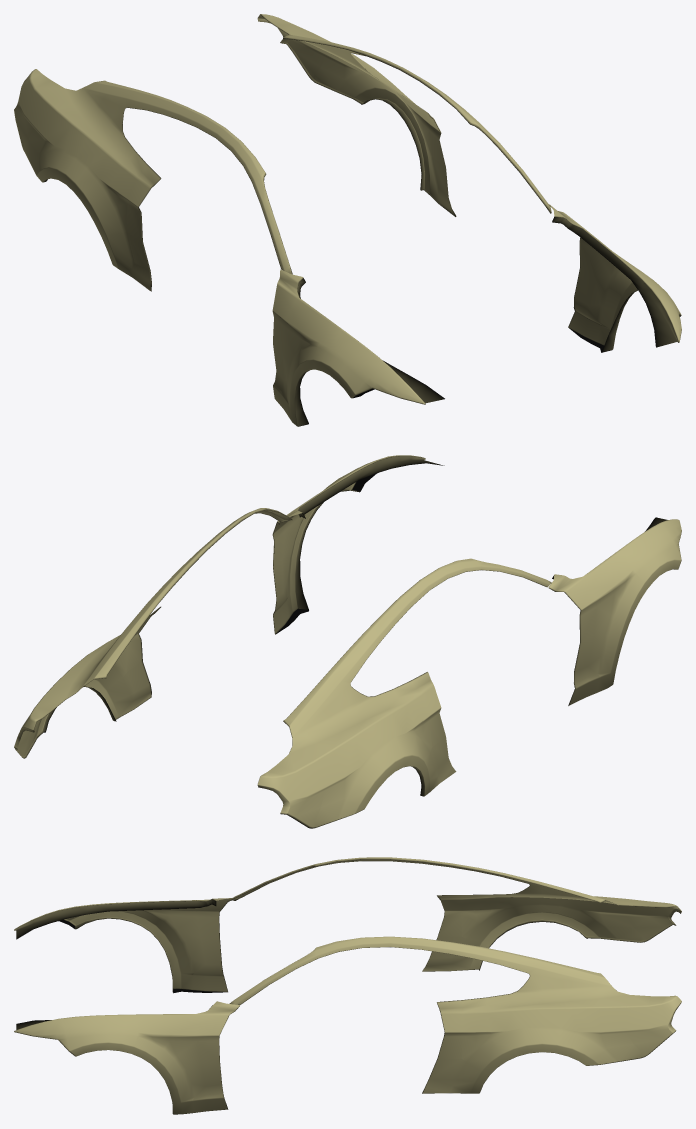
Rendered from Mustang16_Fender_GT_Duco.fbx.
3 renders of one model, top to bottom at view 1: azimuth 30°, elevation 25°; view 2: azimuth 150°, elevation 25°; view 3: azimuth 270°, elevation 25°, orthographic. The views are drawn at different scales.
Visible parts, largest first — view 1: Mustang16_Fender_GT_Duco; view 2: Mustang16_Fender_GT_Duco; view 3: Mustang16_Fender_GT_Duco.
Part boxes in pixels (box(x1,y1,x2,y2)): Mustang16_Fender_GT_Duco: box(14, 14, 681, 426); Mustang16_Fender_GT_Duco: box(14, 455, 681, 828); Mustang16_Fender_GT_Duco: box(14, 857, 681, 1114).
Bounding box in the file's own units: 197 × 107 × 418.
